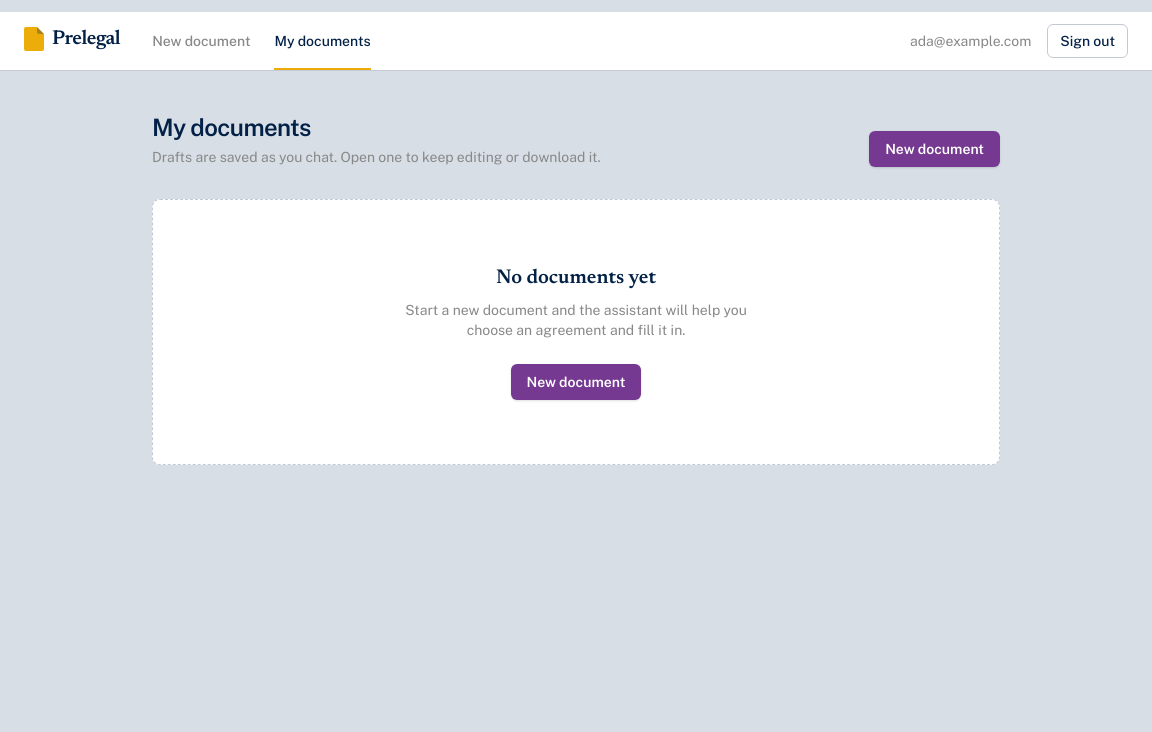
Test: App › restores the session into My documents, then starts a new document
The image size is (1152, 732).
expect the heading "My documents" is shown: met, box [152,113,311,141]
expect the text "ada@example.com" is shown: met, box [910,31,1031,51]
Click the button "New document" next to "Prelegal" at (201, 41), box [152,12,250,70]
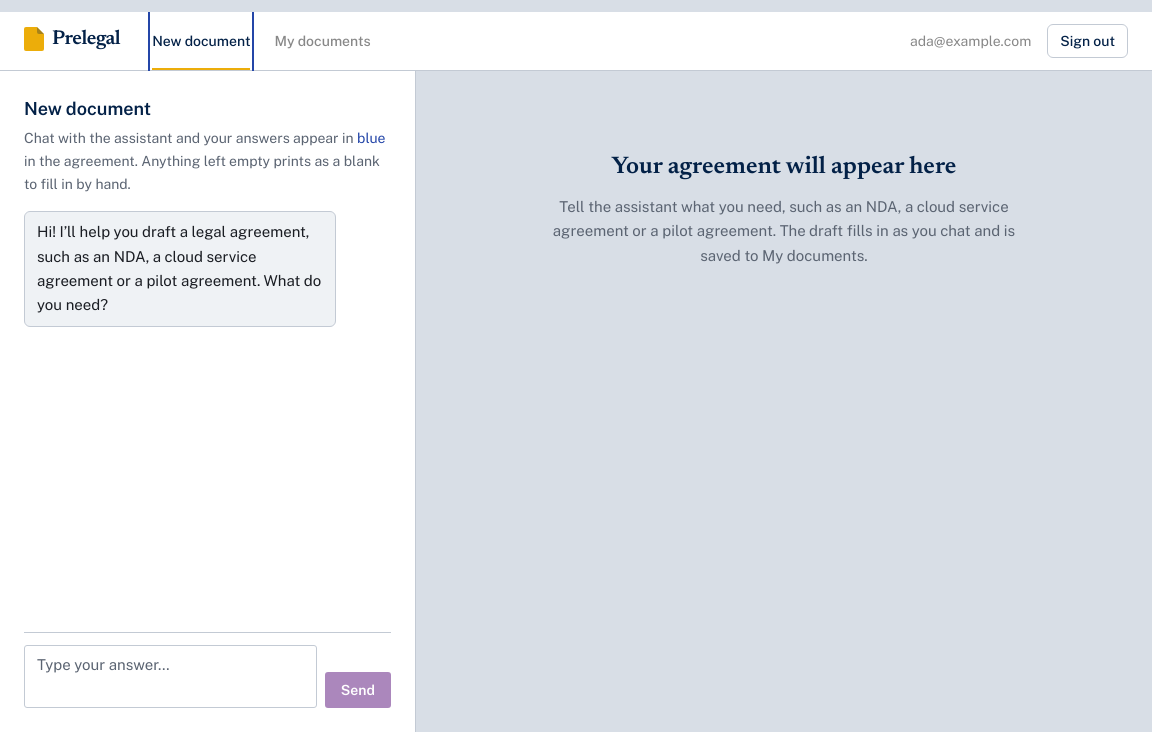
expect the heading "New document" is shown: met, box [24,98,151,119]
expect the text box named "Message" is shown: met, box [24,645,317,708]
